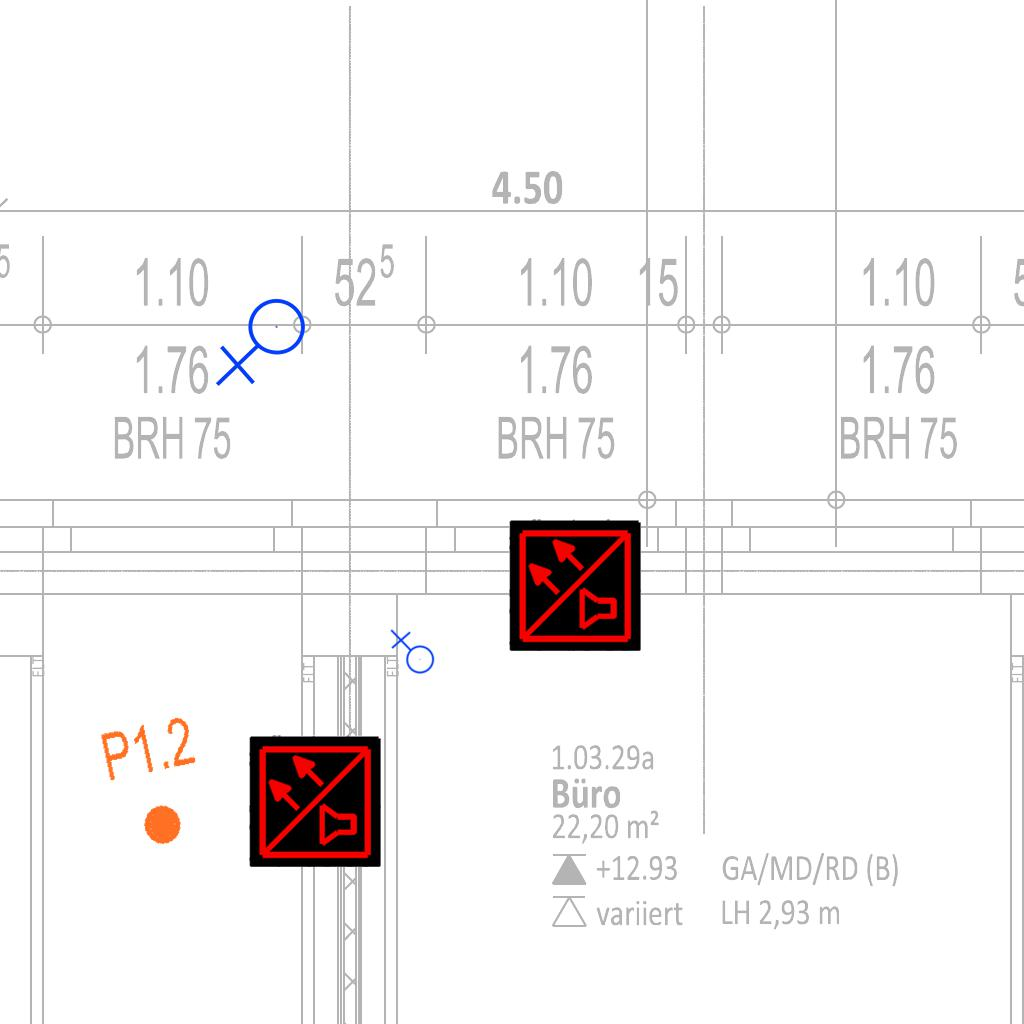Downlight_LED_Einbauleuchten_Flur: (96, 711, 215, 857)
Elektroanschluss_allgemein_230V_Geraeteanschlussdose_230V: (215, 297, 314, 391), (388, 629, 435, 678)
OKW_Multisensormelder_(Kombination_optischer_Rauch-Kahlenmonoxid_Waerme-Melder): (249, 735, 381, 867), (509, 519, 641, 651)
